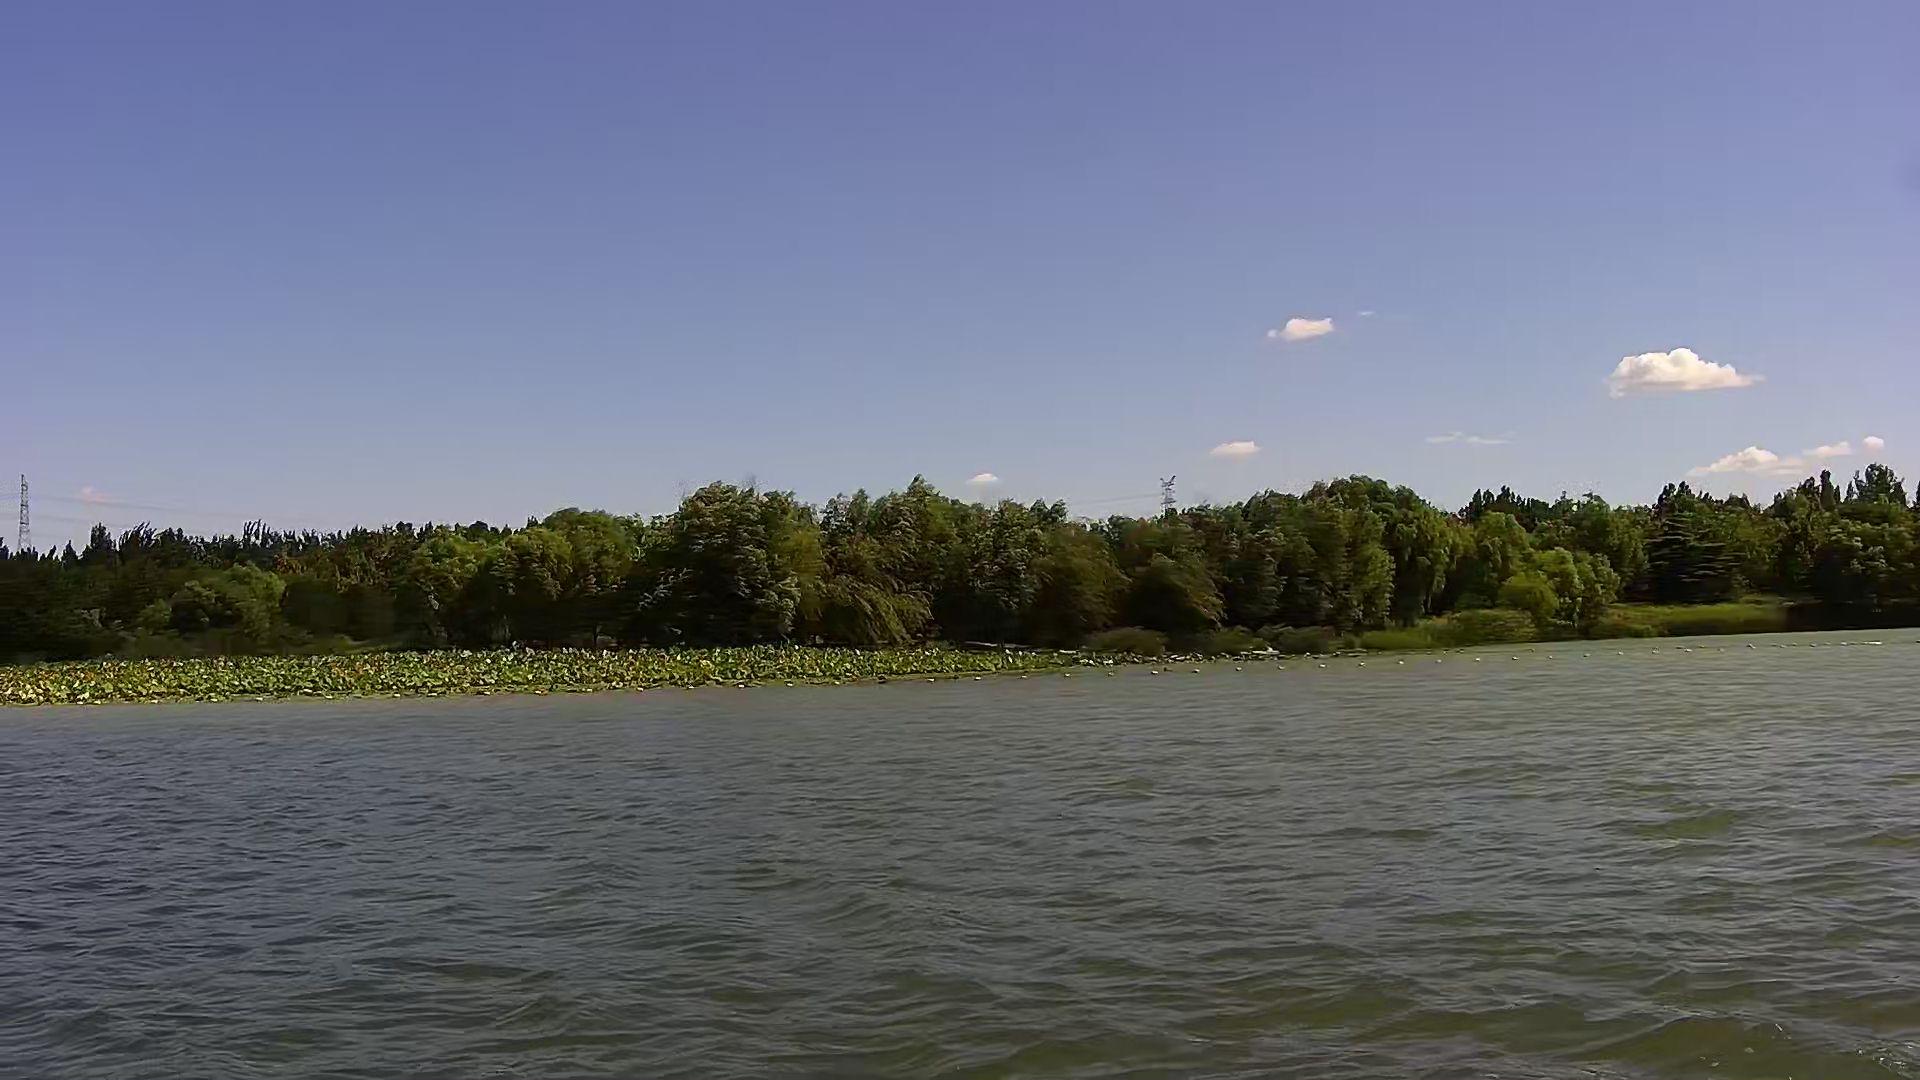grass: (1, 650, 1106, 700)
